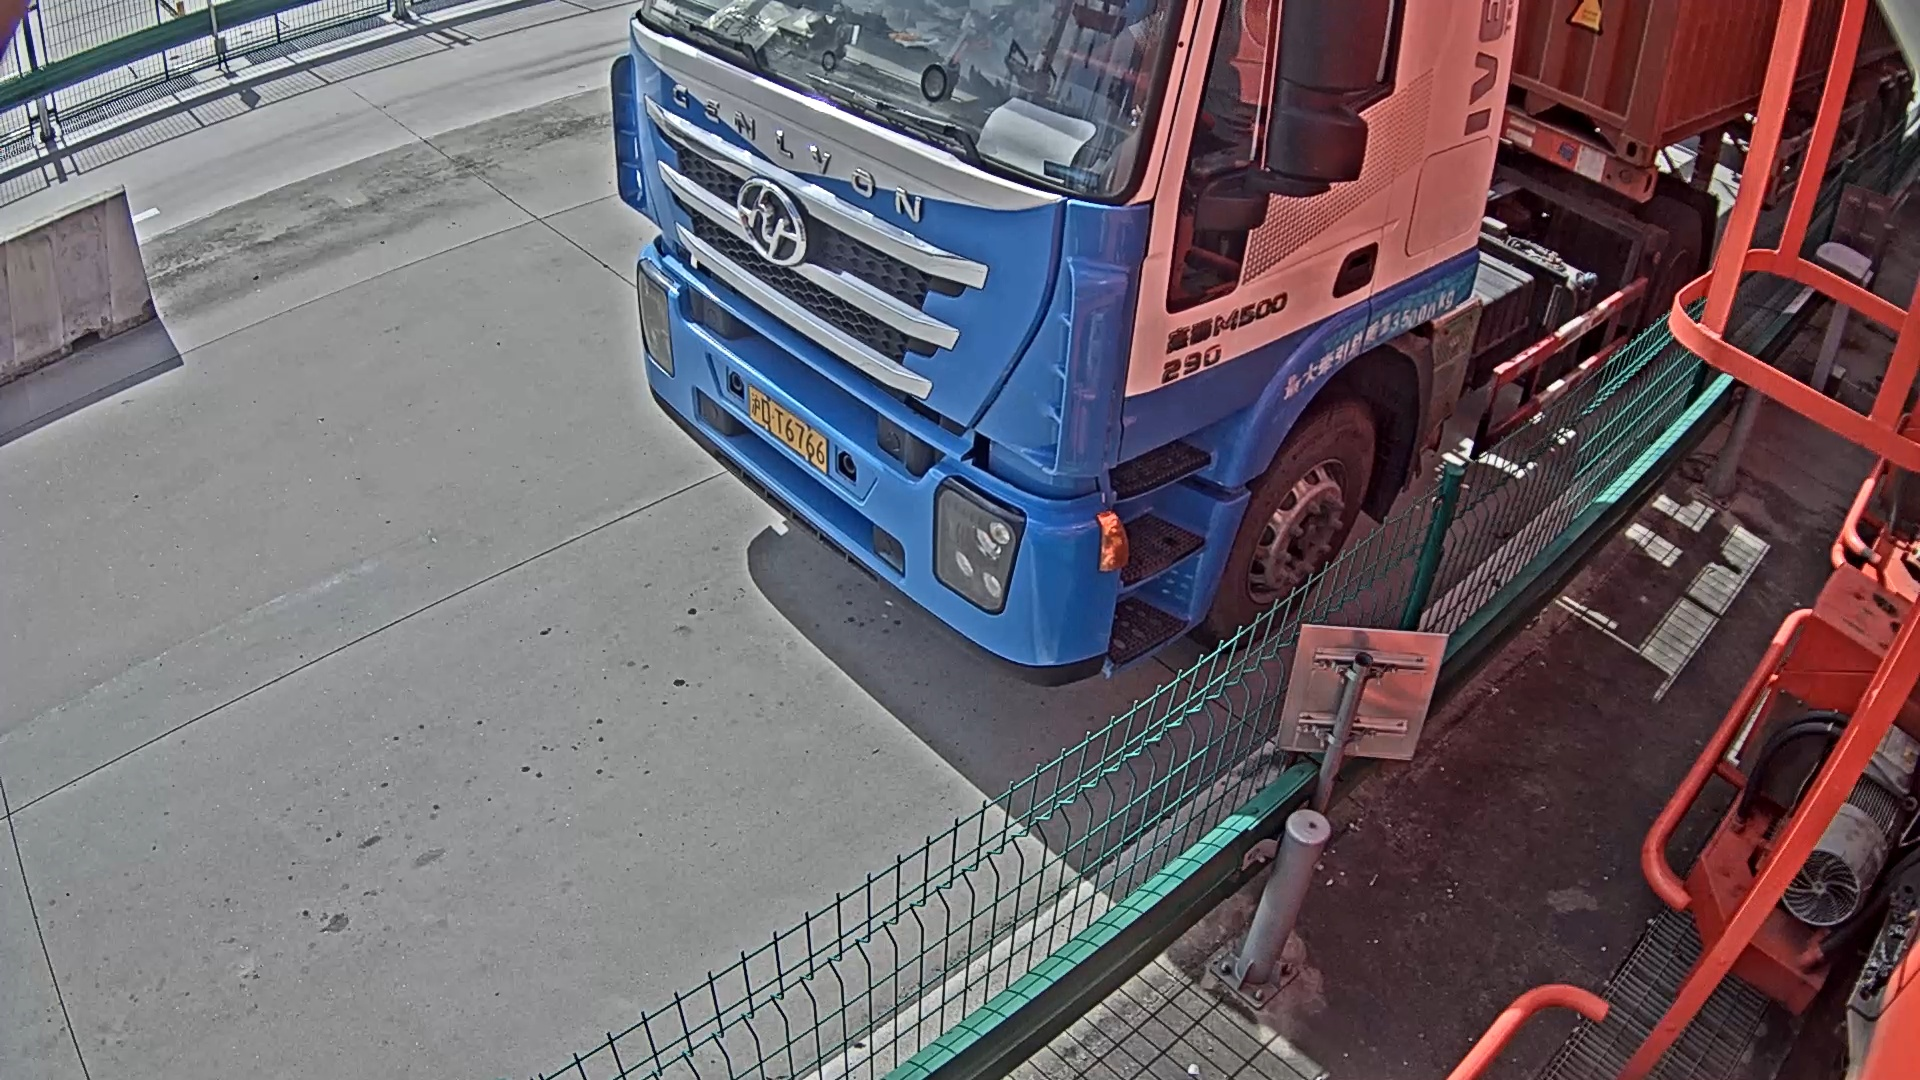head: (622, 1, 1504, 668)
plate: (742, 383, 830, 473)
